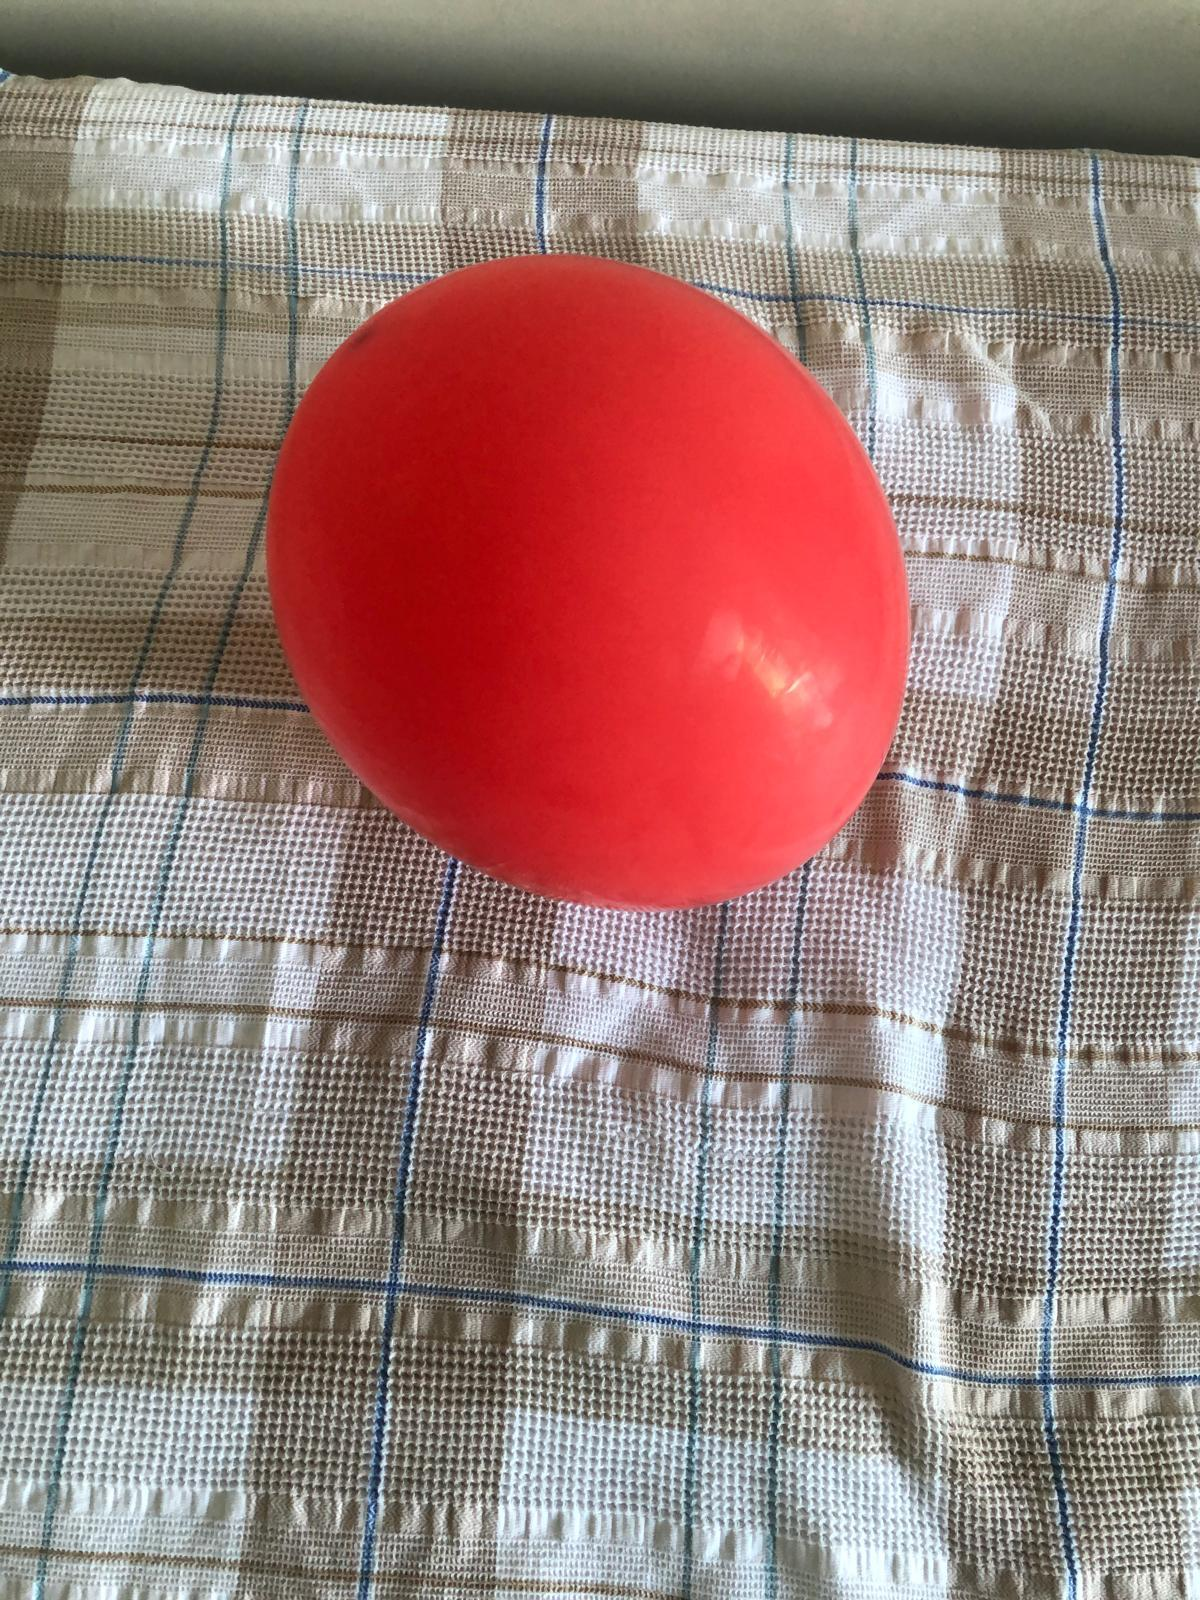red: (263, 247, 924, 905)
